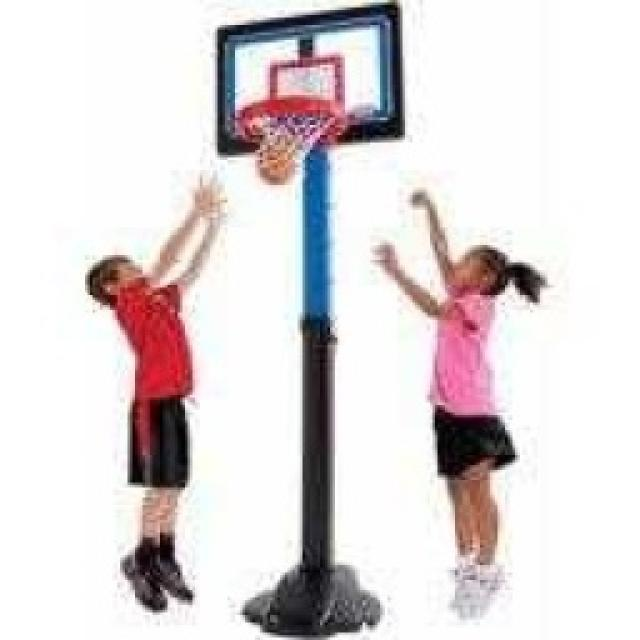rim: (248, 140, 303, 194)
